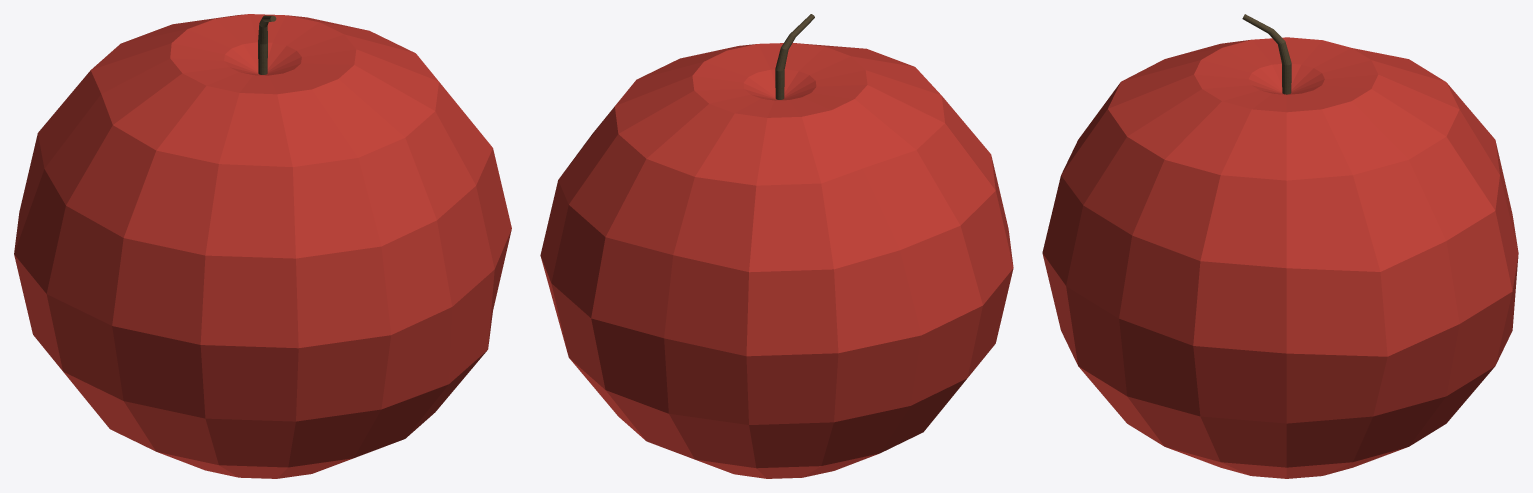
Rendered from Apfel.fbx.
The picture shows the model from 3 angles, left to right: view 1: azimuth 30°, elevation 25°; view 2: azimuth 150°, elevation 25°; view 3: azimuth 270°, elevation 25°; orthographic projection. The views are drawn at different scales.
Parts seen in each view (by area): view 1: Apfel; view 2: Apfel; view 3: Apfel.
Boxes of the visible parts, x1=… form: Apfel: x1=14, y1=14, x2=511, y2=478; Apfel: x1=540, y1=14, x2=1013, y2=478; Apfel: x1=1042, y1=14, x2=1518, y2=478.
Size of the model in its own units: 20 by 20 by 20.
